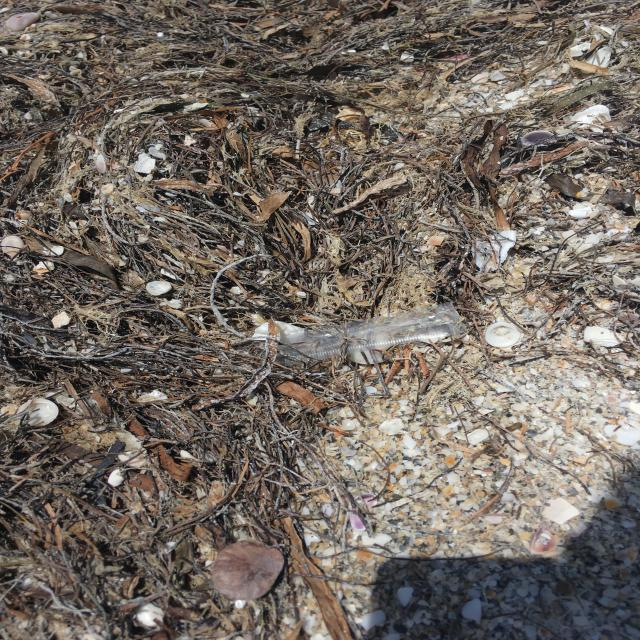litter: (258, 299, 472, 376)
